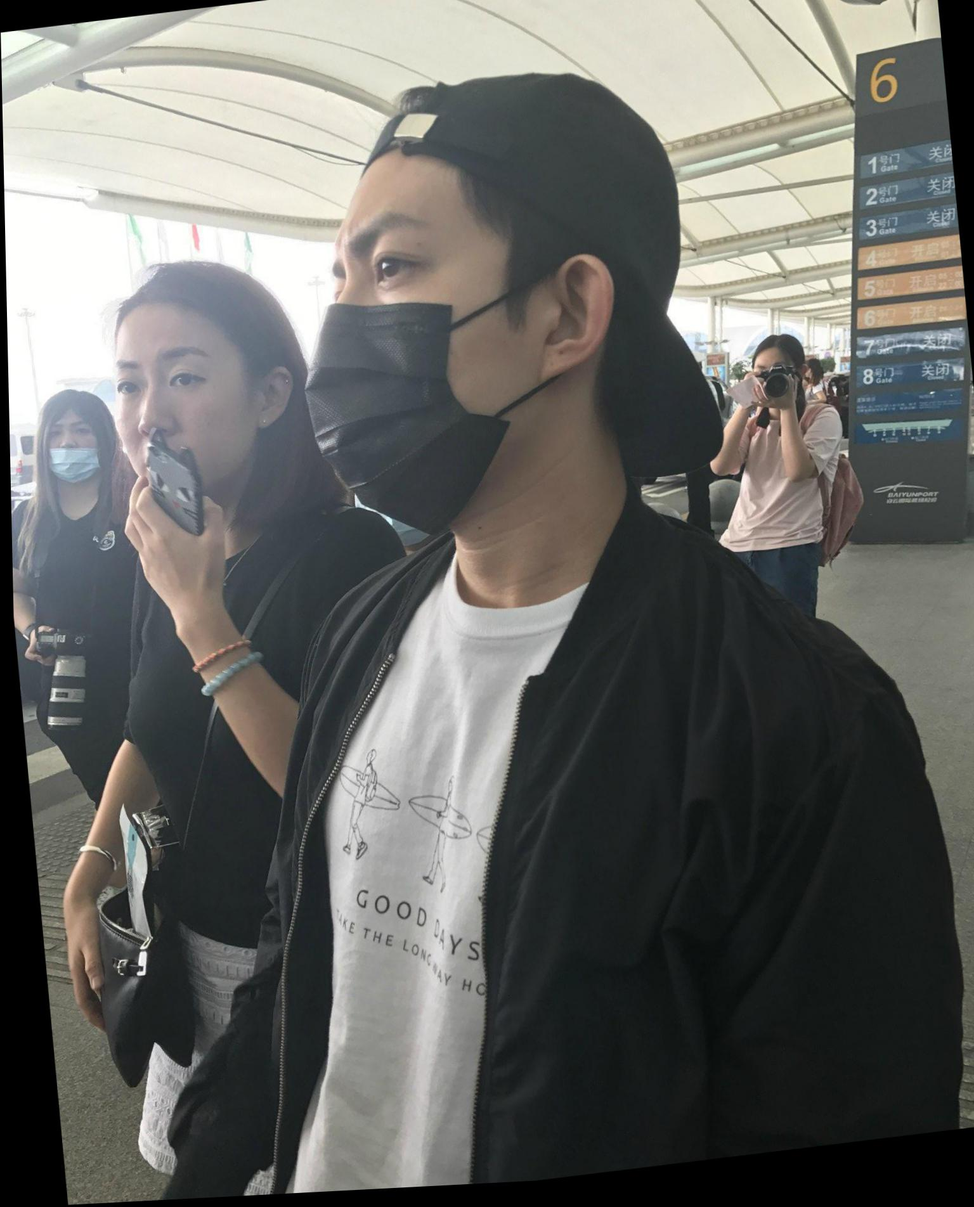NONE: (96, 329, 272, 509), (745, 363, 802, 416)
OK: (289, 183, 613, 514)
WRONG: (34, 413, 110, 491)
